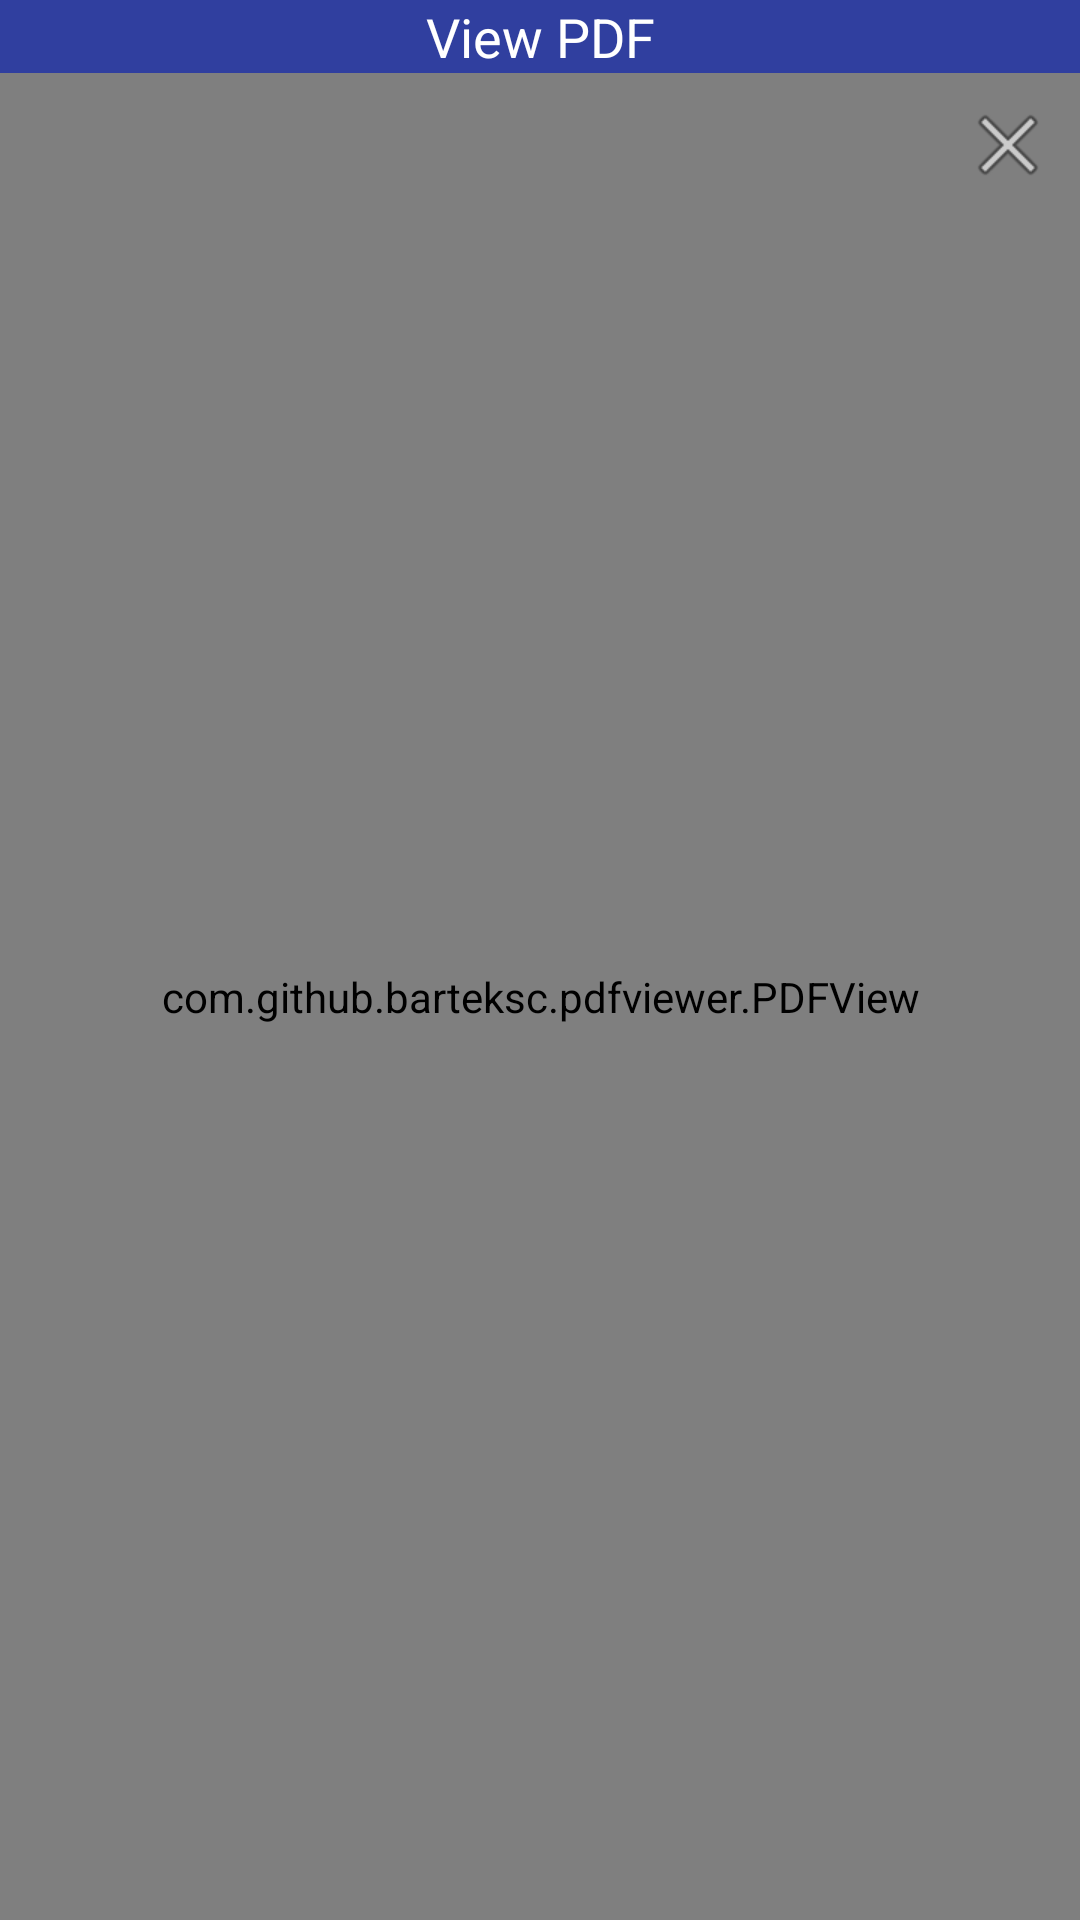

Locate icon controls on the screen. Image size 1080×1920, boxes as {"left": x1, "top": y1, "right": x2, "bottom": y2}.
close clear cancel: {"left": 978, "top": 115, "right": 1038, "bottom": 175}
